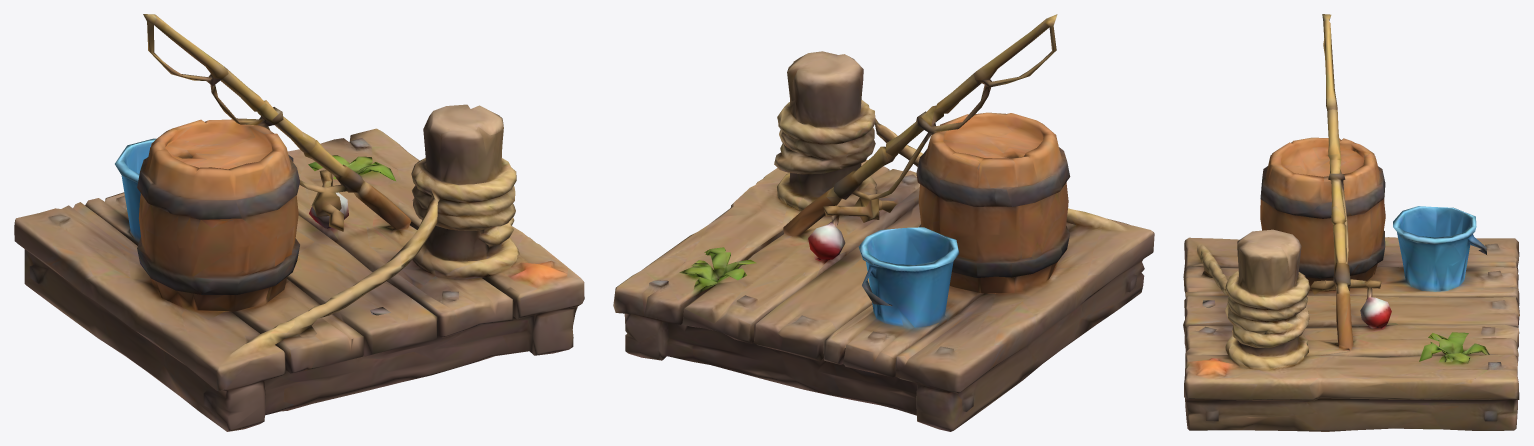
File: act_fishing.glb
The picture shows the model from 3 angles, left to right: view 1: azimuth 30°, elevation 25°; view 2: azimuth 150°, elevation 25°; view 3: azimuth 270°, elevation 25°; orthographic projection. The views are drawn at different scales.
Visible parts, largest first — view 1: tripo_node_d0308479-53a1-47ff-a054-f263b26a43e3; view 2: tripo_node_d0308479-53a1-47ff-a054-f263b26a43e3; view 3: tripo_node_d0308479-53a1-47ff-a054-f263b26a43e3.
Boxes of the visible parts, x1=… form: tripo_node_d0308479-53a1-47ff-a054-f263b26a43e3: x1=14, y1=14, x2=584, y2=431; tripo_node_d0308479-53a1-47ff-a054-f263b26a43e3: x1=613, y1=14, x2=1154, y2=431; tripo_node_d0308479-53a1-47ff-a054-f263b26a43e3: x1=1183, y1=14, x2=1519, y2=431.
Size of the model in its own units: 1 by 0.9094 by 0.9722.
Materials: 1 (1 with a texture image).
